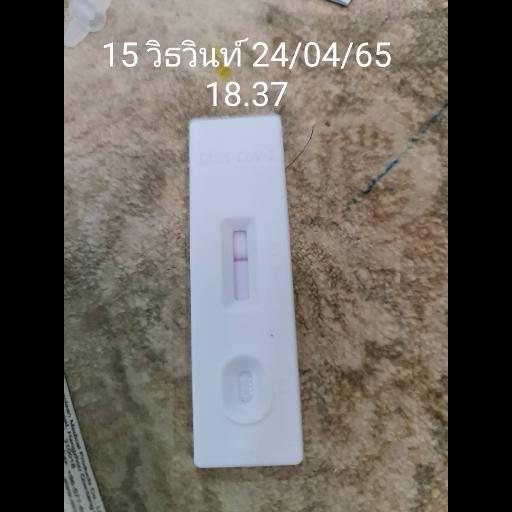Neg: (188, 114, 303, 469)
